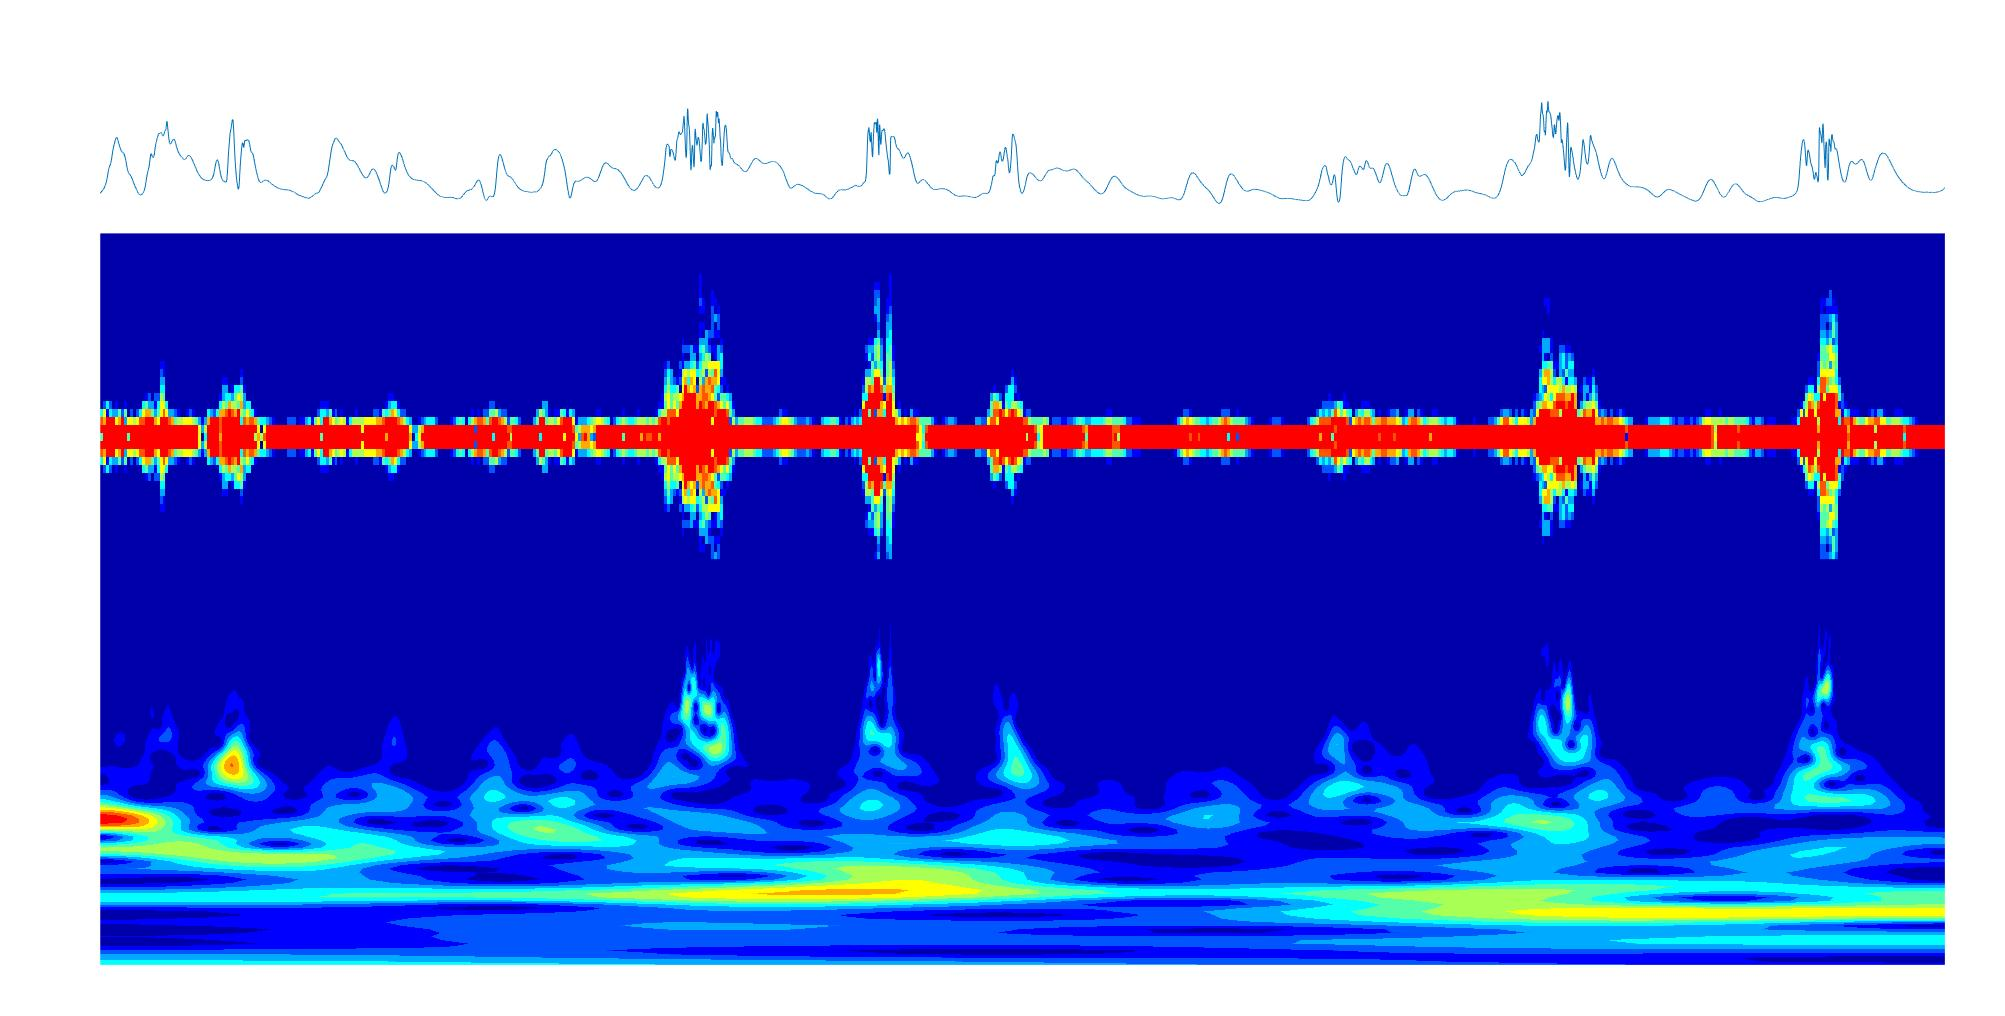TURBULENT: (1534, 235, 1609, 964), (662, 233, 733, 964), (1798, 235, 1844, 962), (861, 235, 898, 963)
